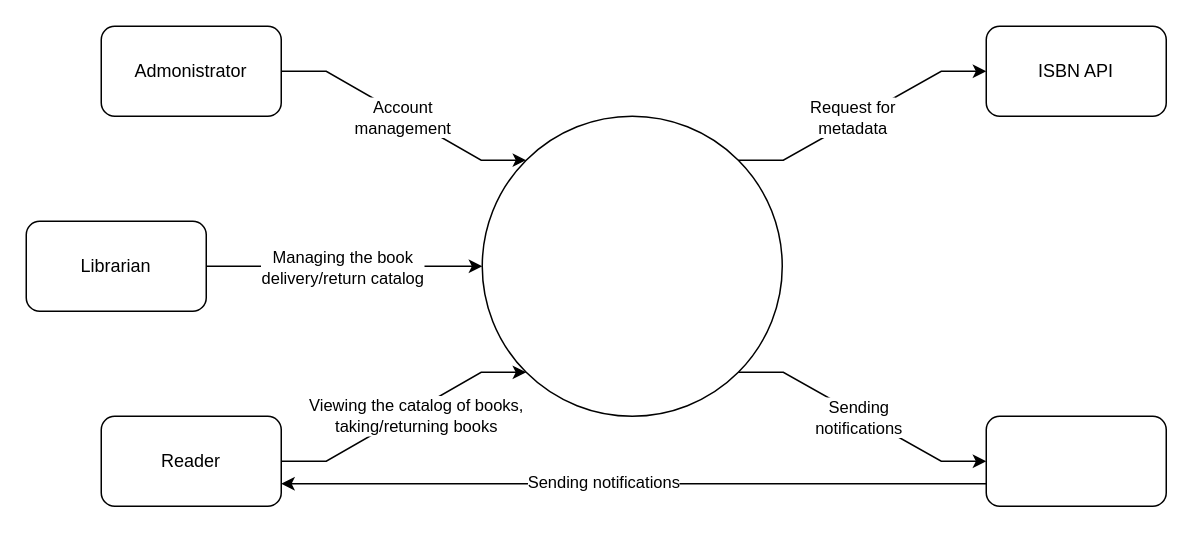
Some shapes in this 1193 by 533 pixel diagram are drawn without their labels. Each missing label, with the centre of its shape:
"Email service" goes at (1075,460).
"Library App" goes at (631,265).
